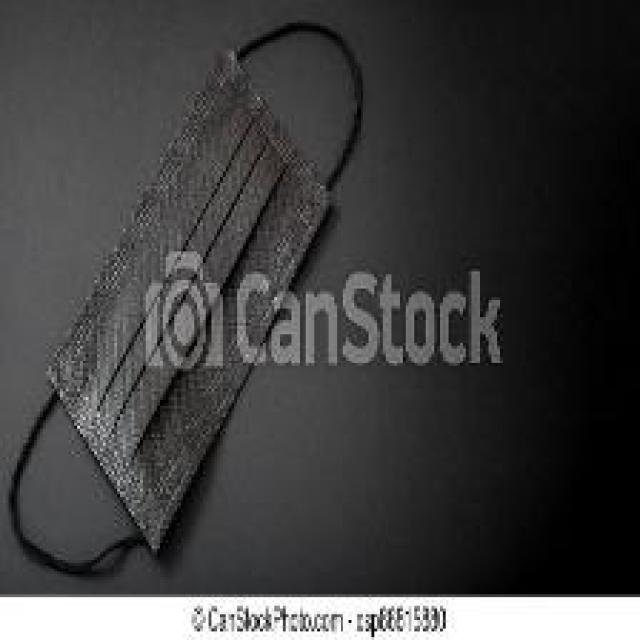Mask: (36, 80, 366, 569)
